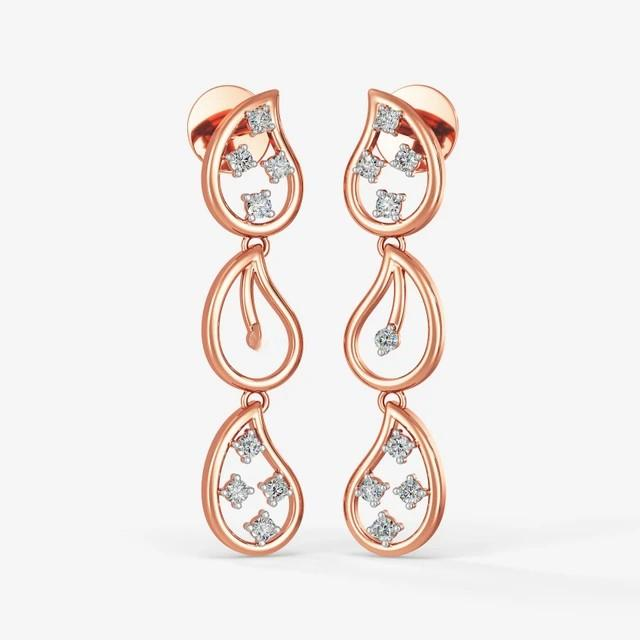missing gem: (249, 330, 266, 349), (252, 323, 261, 330), (255, 349, 262, 355)
